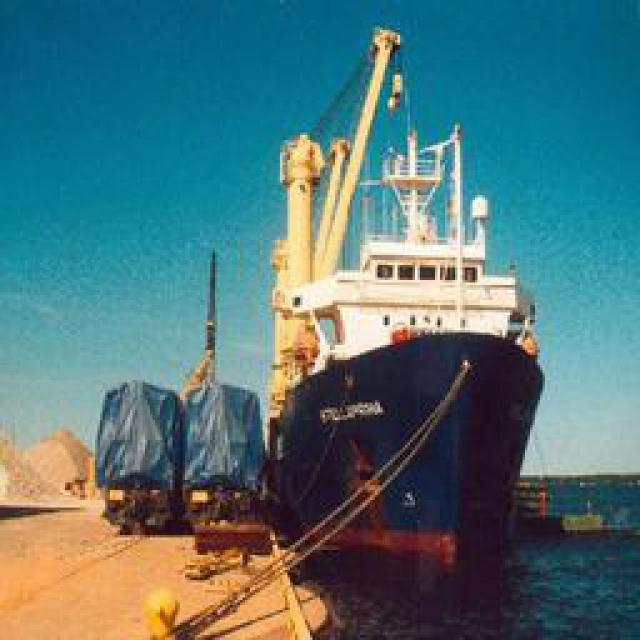Ship: (264, 28, 554, 566)
